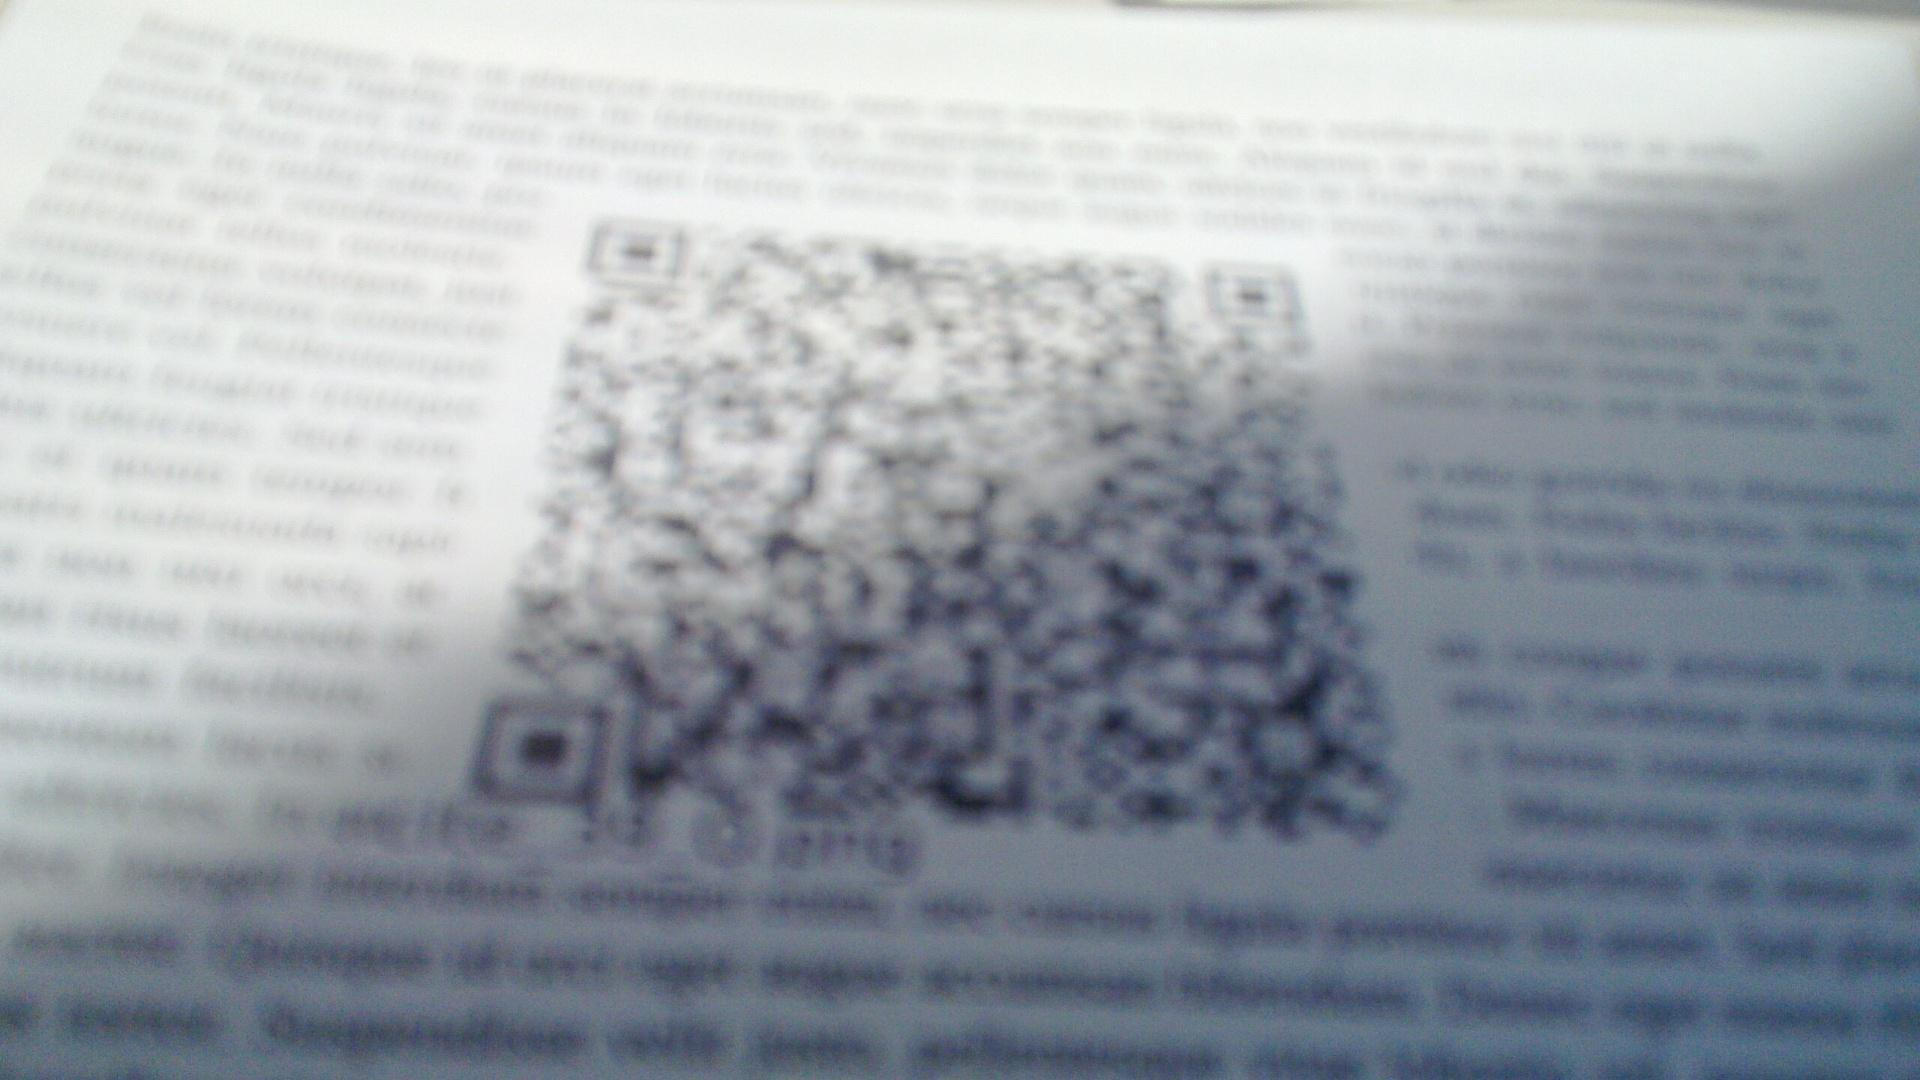Finder pattern: (472, 694, 618, 808), (1197, 258, 1311, 328), (585, 214, 695, 282)
